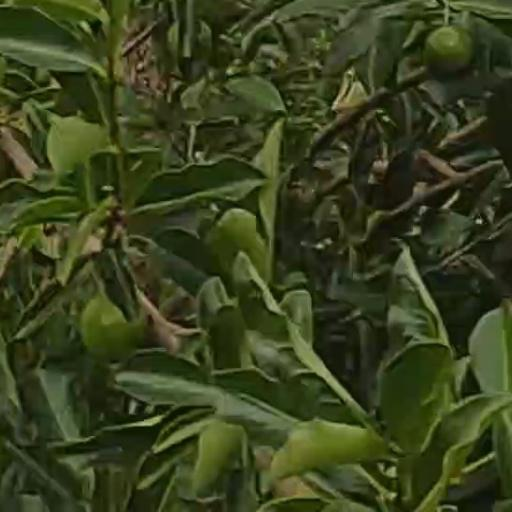acerola_verde: (83, 304, 141, 355), (424, 26, 471, 74)
